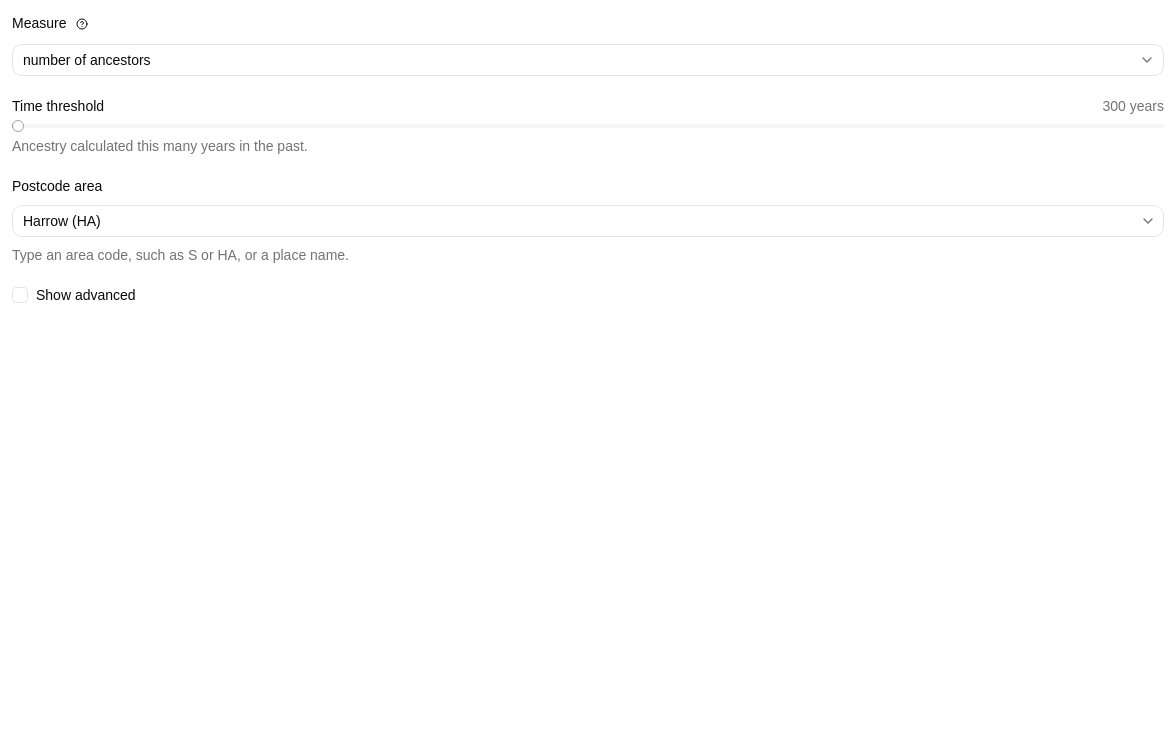
it: advanced settings › are hidden until asked for
Click the checkbox named "Show advanced": (20, 295) [12, 287, 28, 303]
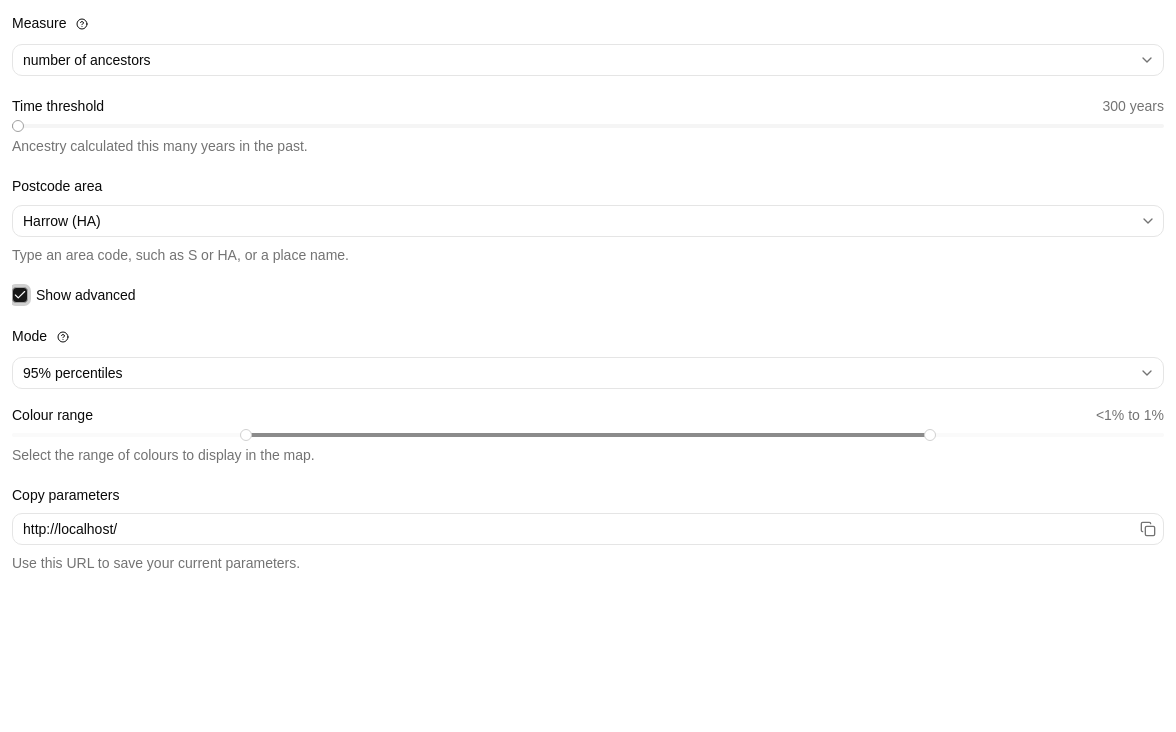
Result: the dropdown named "Mode" is shown at [12, 357, 1164, 389]
